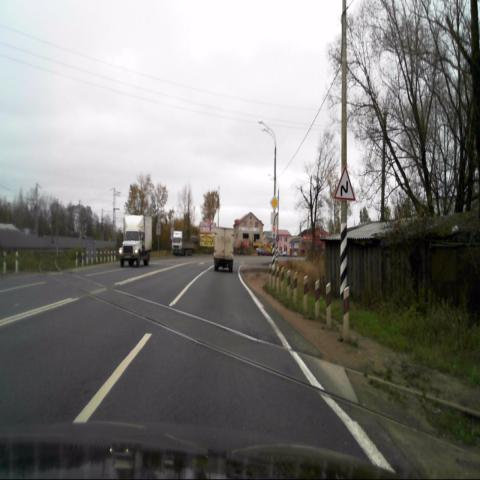1_12: (333, 166, 356, 201)
